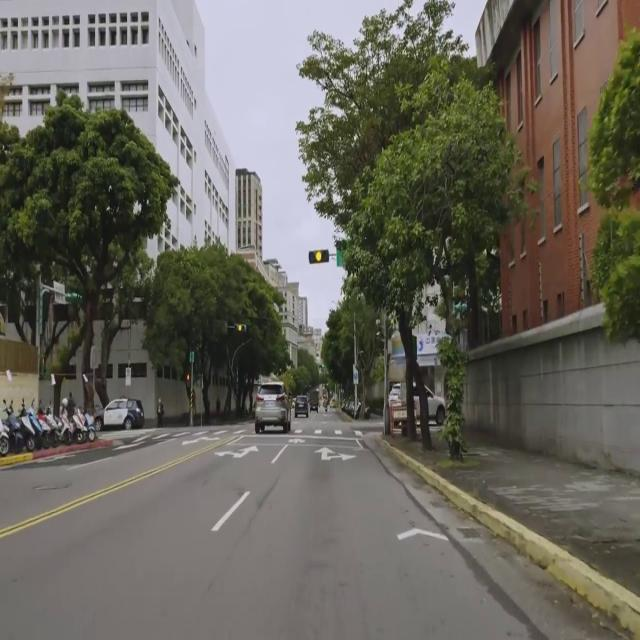yellow light: (308, 250, 329, 264), (233, 322, 247, 333)
